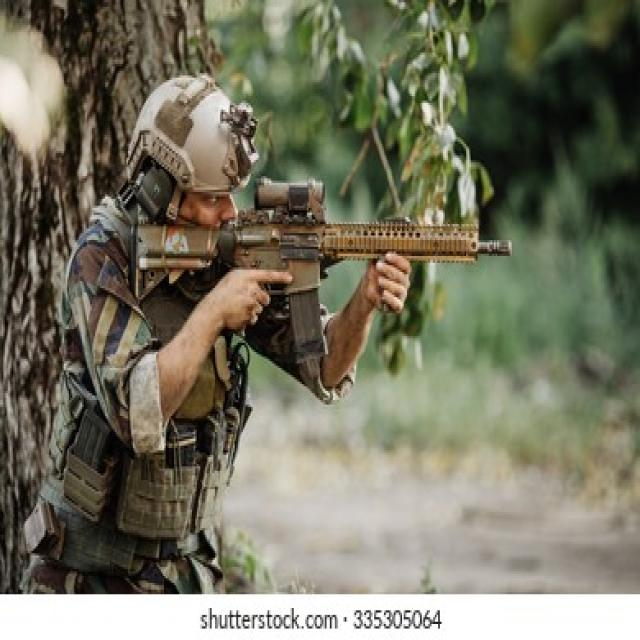soldier: (25, 74, 516, 595)
